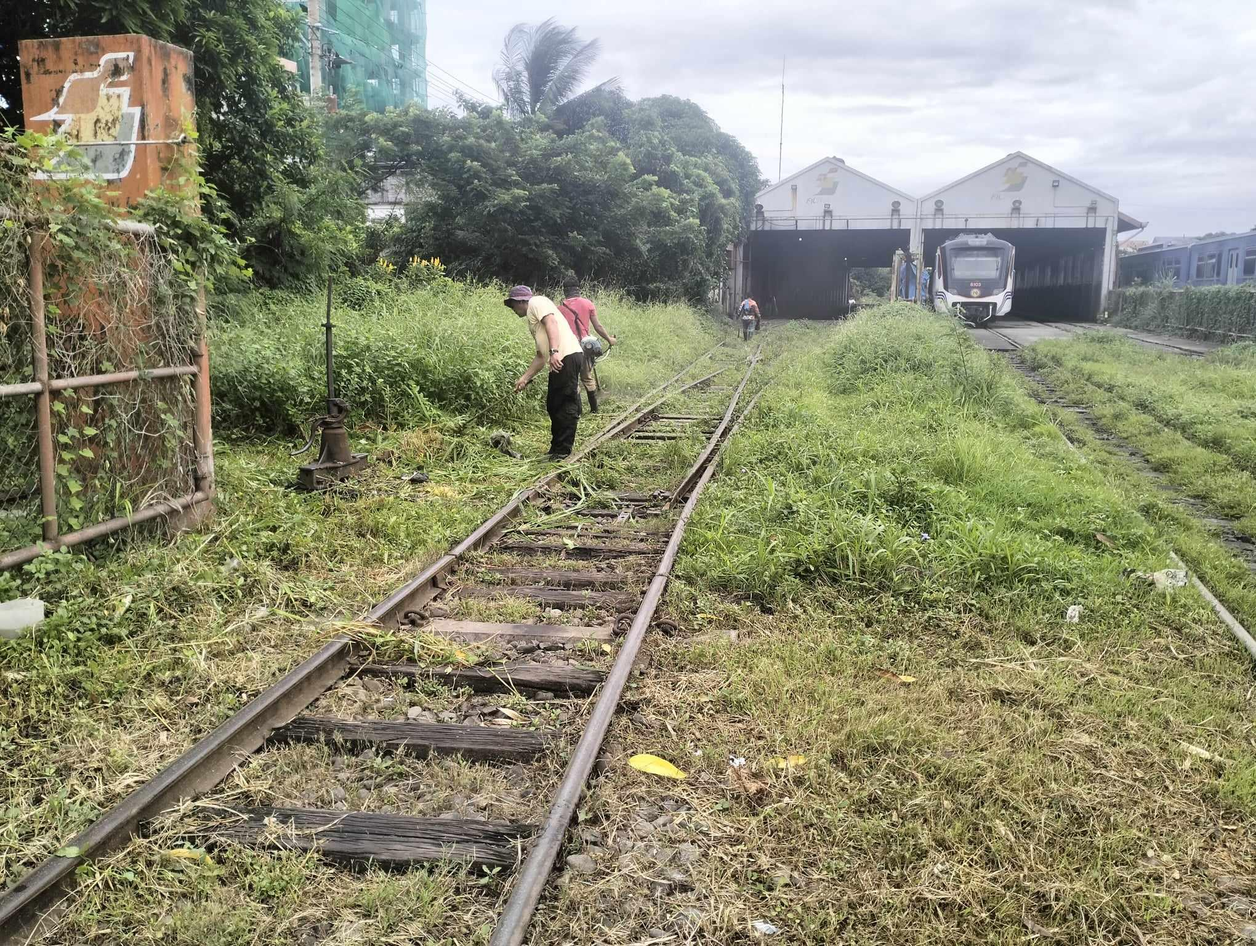railway-gap: (619, 538, 698, 611), (423, 525, 484, 583)
